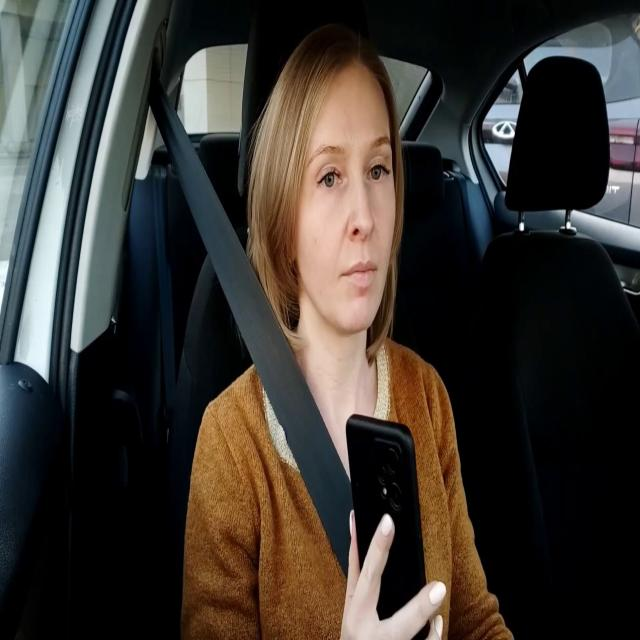phone: (346, 410, 434, 640)
